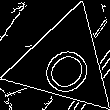O_NE: (30, 30, 98, 96)
